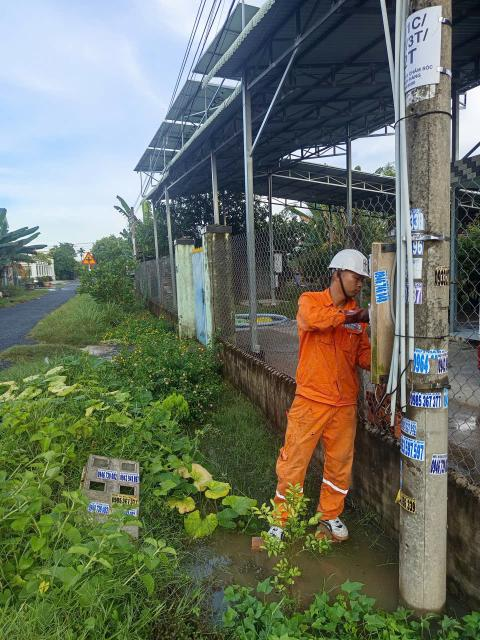gloves: (338, 298, 382, 327)
helmet: (324, 243, 382, 280)
shoes: (262, 516, 287, 558), (314, 513, 352, 540)
